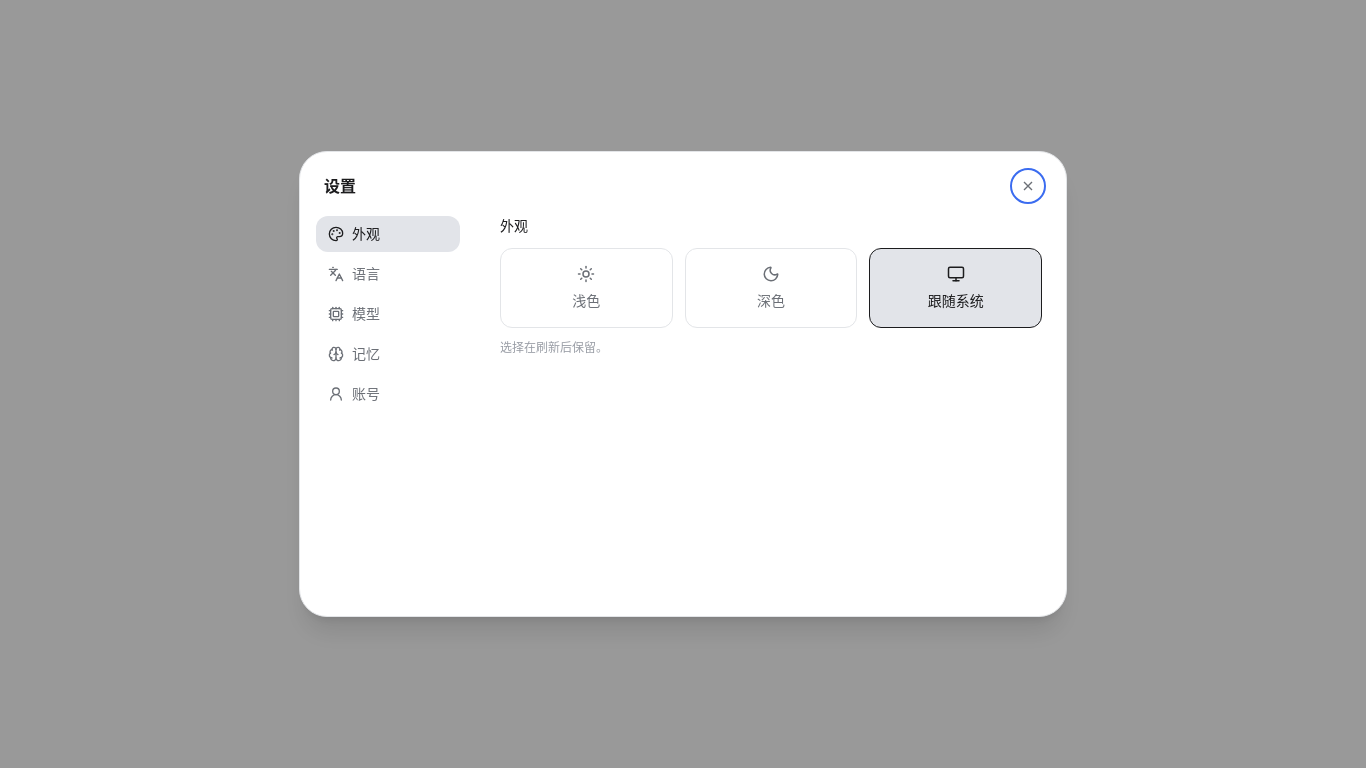
Test: MemoryPane › says the memory plugin is off instead of showing the pane (memory-plugin 3.1)
Click the button "记忆" at (388, 354), box [316,336,460,372]
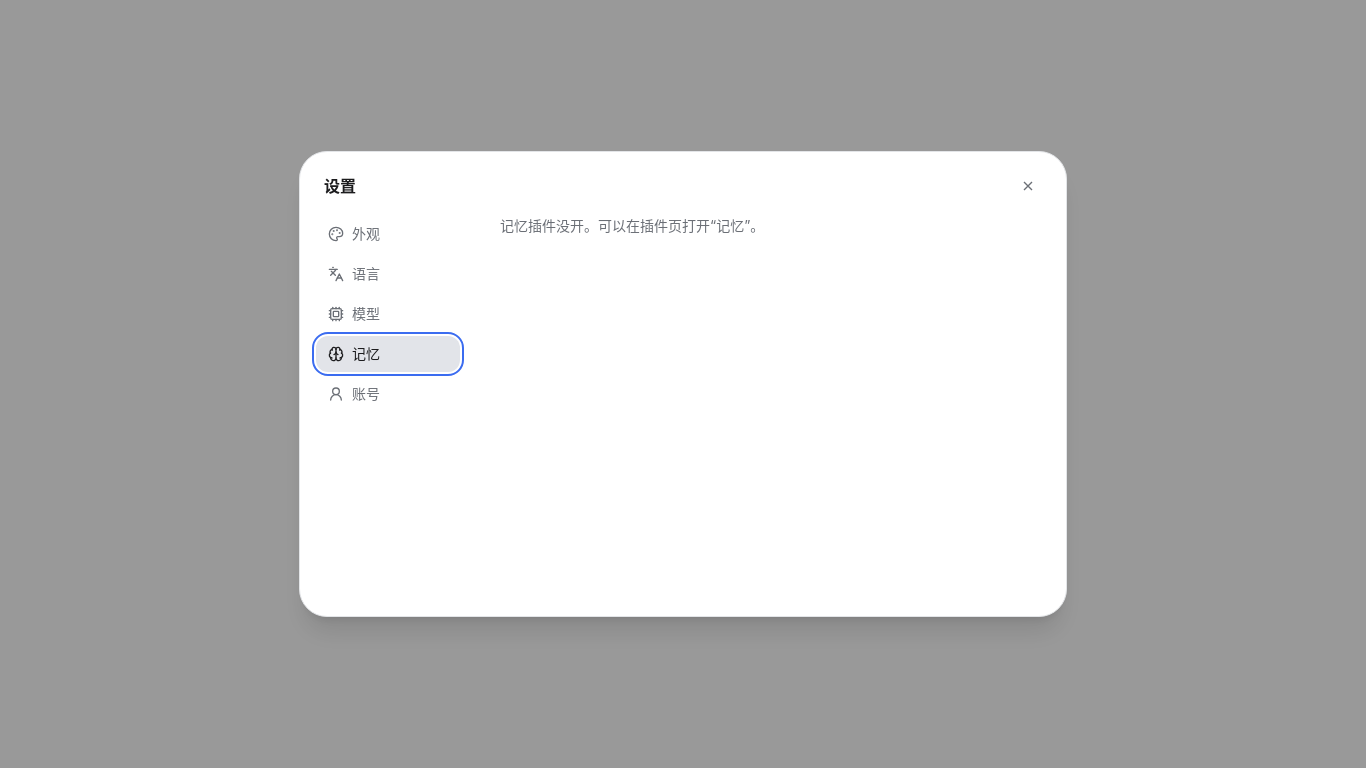
Now the text "记忆插件没开。可以在插件页打开“记忆”。" is shown, box [500,217,764,234]
